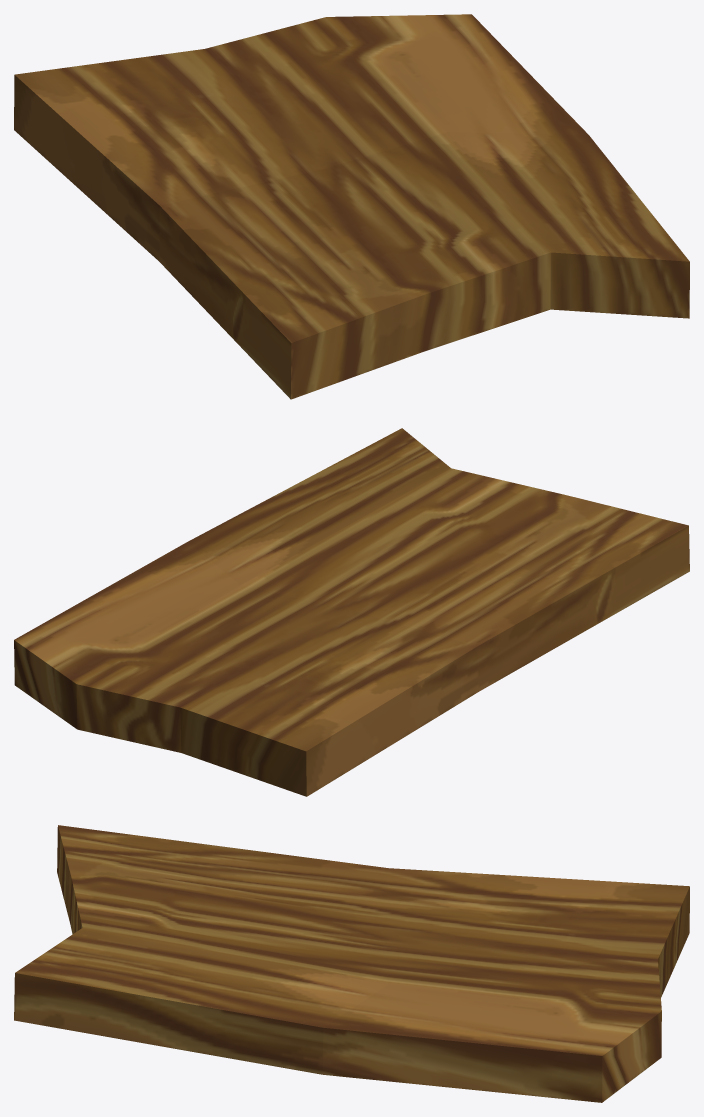
File: plank_2x3.glb
3 renders of one model, top to bottom at view 1: azimuth 30°, elevation 25°; view 2: azimuth 150°, elevation 25°; view 3: azimuth 270°, elevation 25°, orthographic. The views are drawn at different scales.
Parts seen in each view (by area): view 1: PLank_2x1; view 2: PLank_2x1; view 3: PLank_2x1.
Boxes of the visible parts, x1,y1,x2,y2 form: PLank_2x1: (14, 14, 689, 399); PLank_2x1: (14, 428, 689, 796); PLank_2x1: (14, 825, 689, 1102).
Size of the model in its own units: 2.34 by 0.4307 by 3.21.
Materials: 1 (1 with a texture image).
